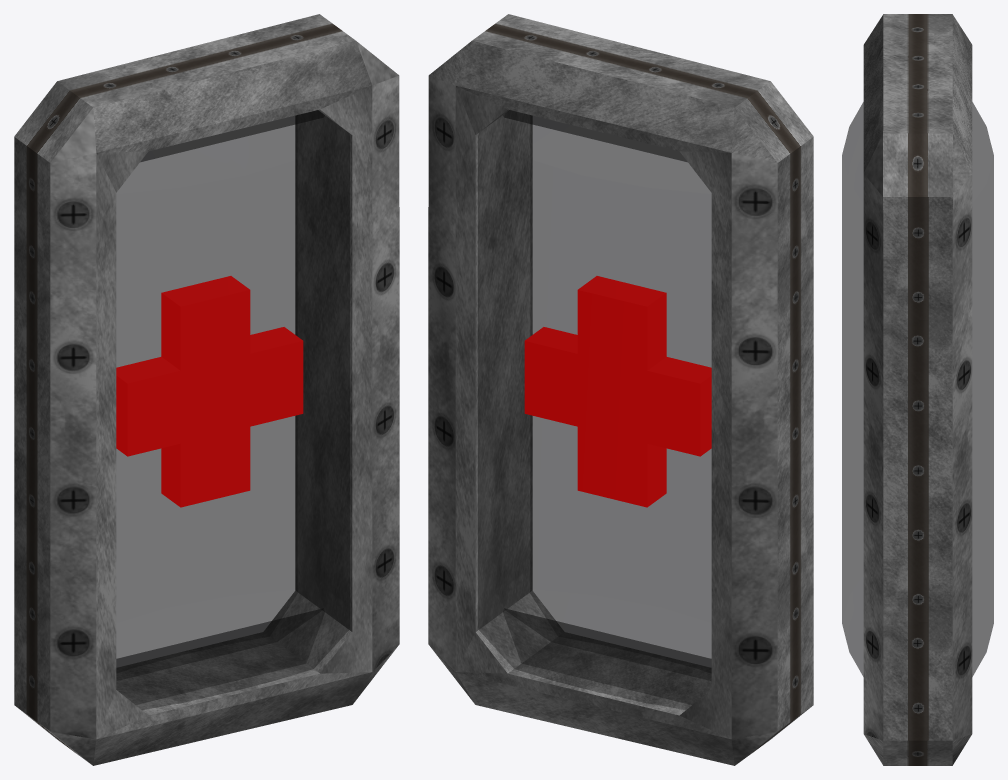
File: health pickup.fbx
3 renders of one model, left to right at view 1: azimuth 30°, elevation 25°; view 2: azimuth 150°, elevation 25°; view 3: azimuth 270°, elevation 25°, orthographic. The views are drawn at different scales.
Parts seen in each view (by area): view 1: Boole_1, Symmetry_1, Cube_2; view 2: Boole_1, Symmetry_1, Cube_2; view 3: Boole_1, Symmetry_1.
Part boxes in pixels (x1,y1,x2,y2): Boole_1: (14, 14, 399, 765); Symmetry_1: (116, 110, 349, 709); Cube_2: (116, 276, 303, 507); Boole_1: (428, 14, 813, 765); Symmetry_1: (478, 110, 711, 709); Cube_2: (524, 276, 711, 507); Boole_1: (863, 14, 972, 765); Symmetry_1: (842, 102, 993, 676).
Bounding box in the file's own units: 21.76 × 39.49 × 8.57.
Materials: 3 (1 with a texture image).
